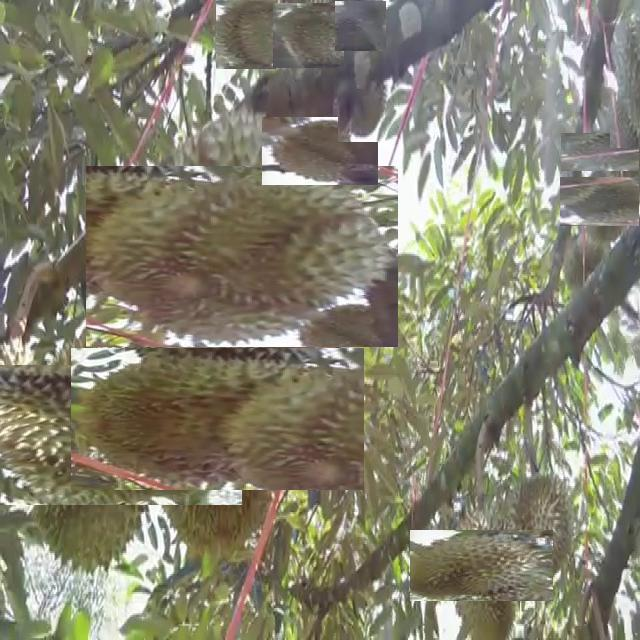durian: (118, 133, 365, 380), (108, 310, 326, 528), (0, 327, 205, 543), (428, 512, 535, 620), (0, 369, 84, 490), (505, 466, 578, 584), (274, 105, 366, 198), (570, 166, 640, 236), (338, 52, 391, 142), (274, 2, 343, 70), (580, 113, 640, 190), (211, 0, 280, 65), (610, 4, 639, 148), (558, 231, 614, 297), (335, 0, 386, 51)
